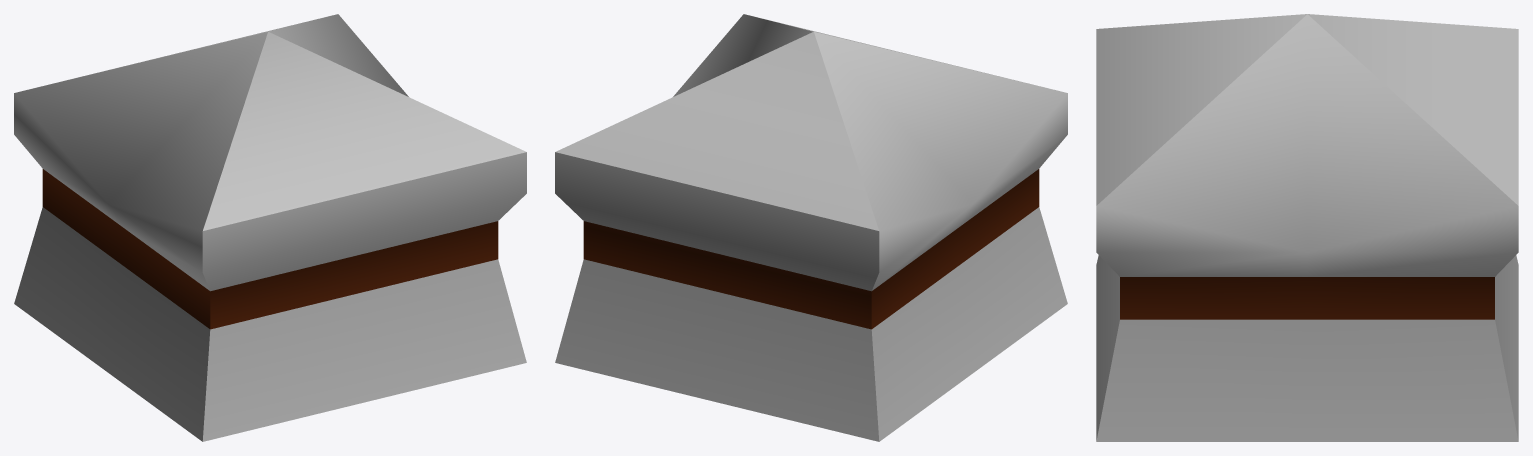
3 views of the same model, side by side, from view 1: azimuth 30°, elevation 25°; view 2: azimuth 150°, elevation 25°; view 3: azimuth 270°, elevation 25° (orthographic). The views are drawn at different scales.
Parts seen in each view (by area): view 1: Box002; view 2: Box002; view 3: Box002.
Part boxes in pixels (x1,y1,x2,y2): Box002: [14, 14, 526, 441]; Box002: [555, 14, 1067, 441]; Box002: [1096, 14, 1518, 441].
Size of the model in its own units: 2.79 by 2.49 by 2.82.
